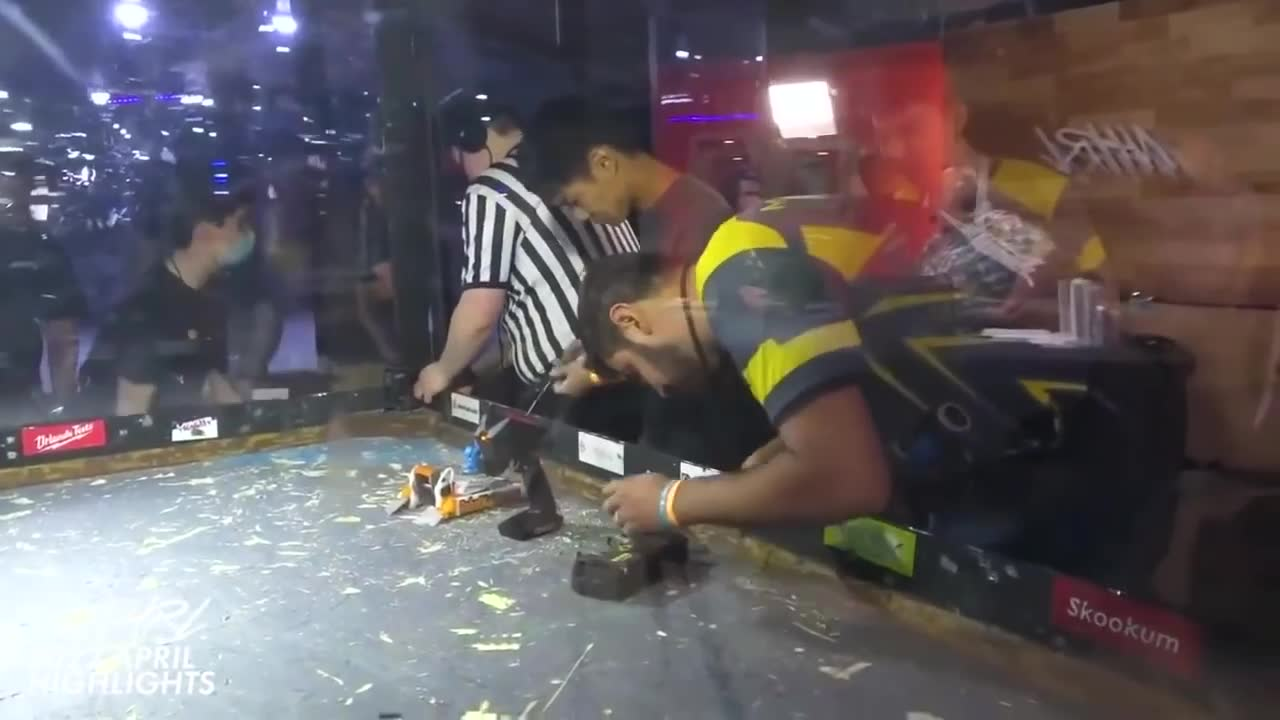combatbot: (388, 460, 523, 530), (572, 529, 690, 599)
